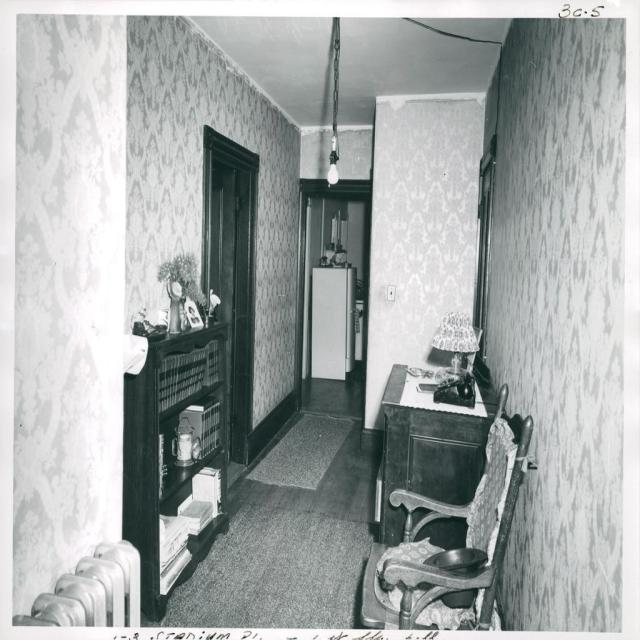Chair: (355, 381, 539, 632)
